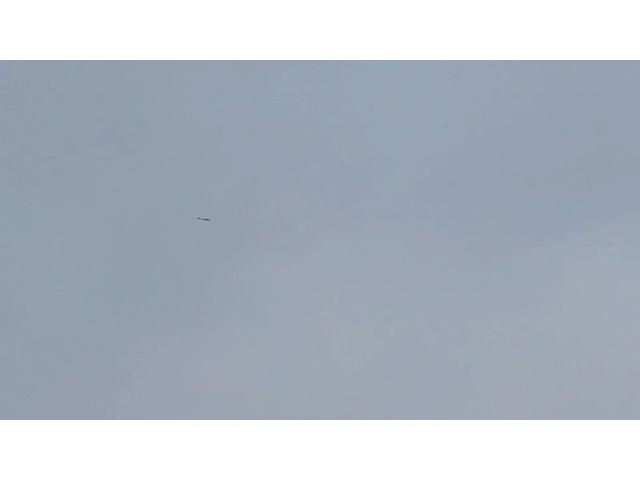Anti-Drone: (196, 215, 214, 224)
